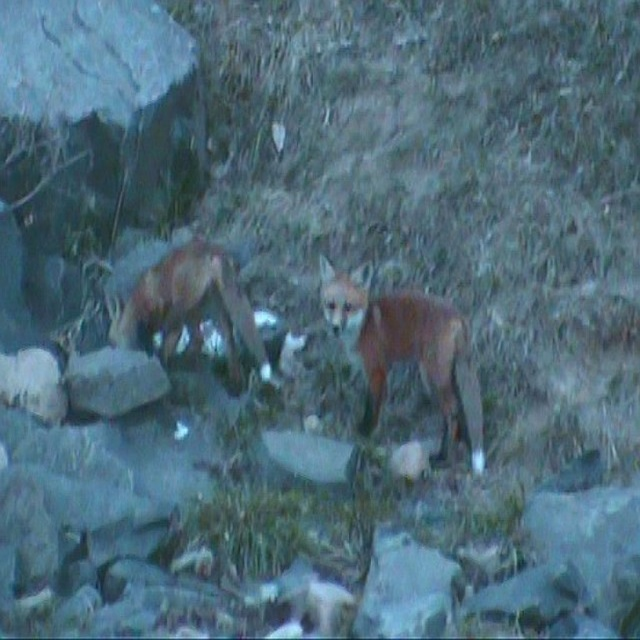Fox: (320, 254, 486, 482), (108, 241, 269, 397)
